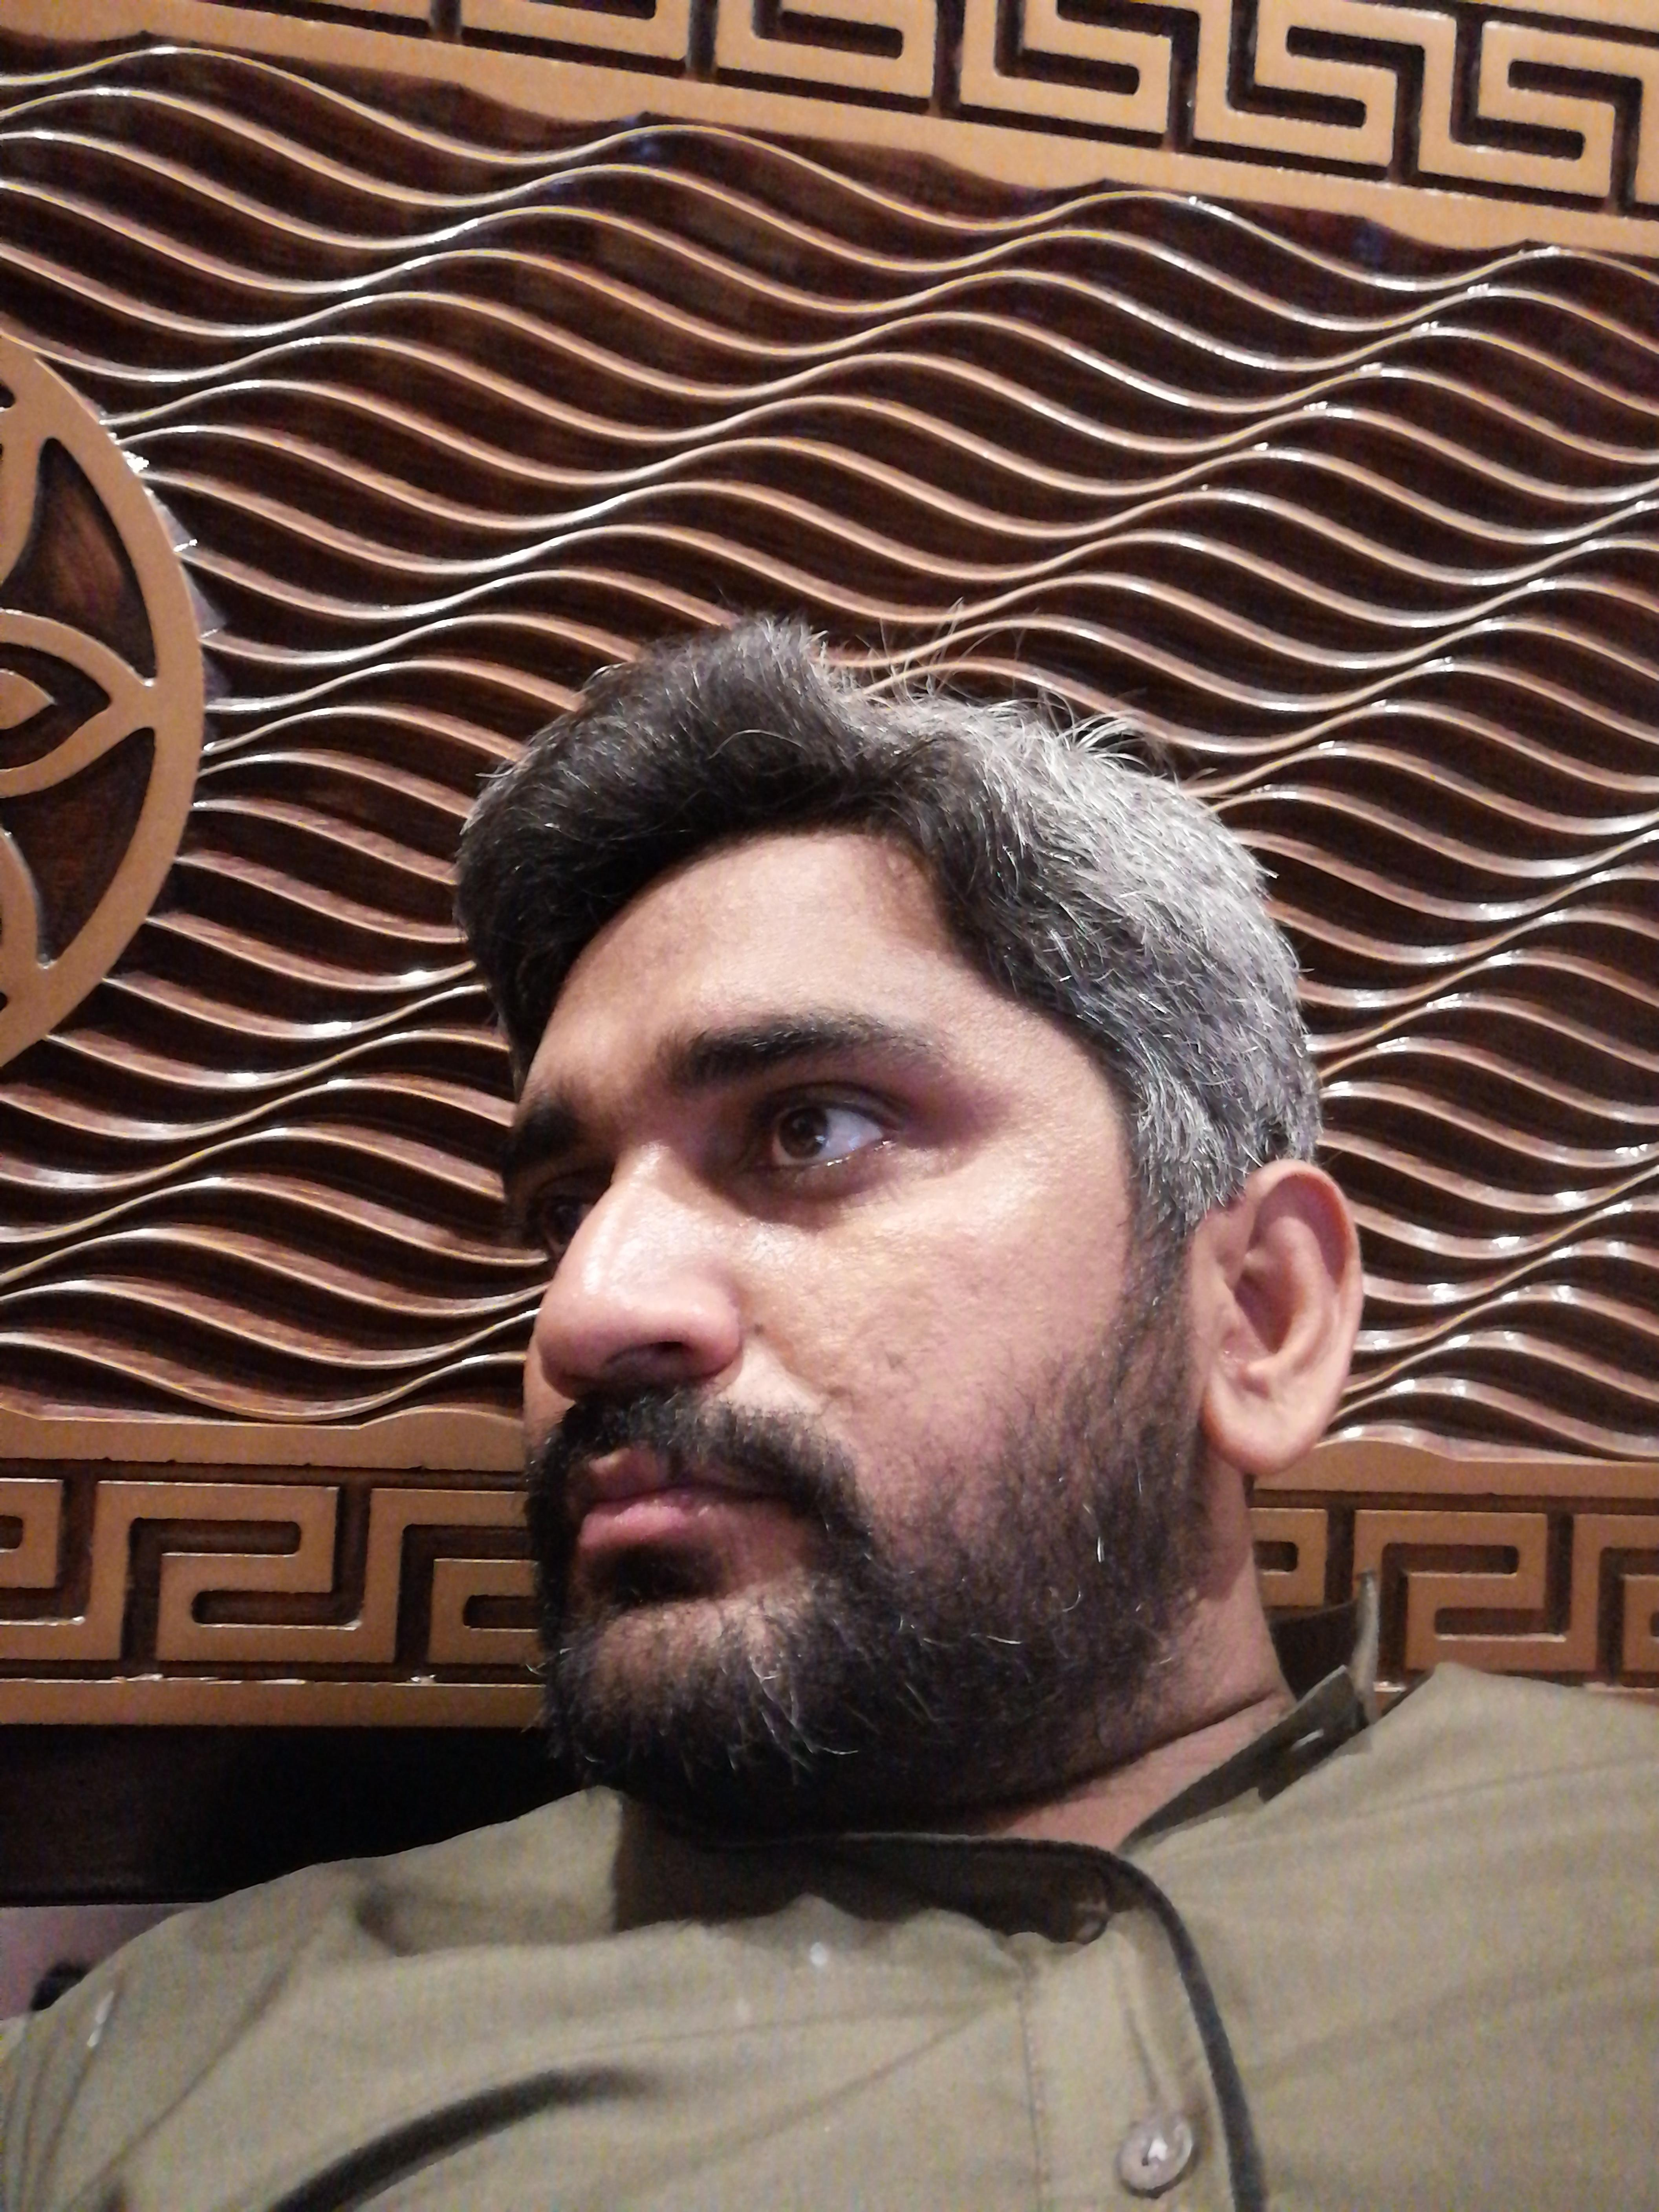Acne: (819, 1371, 856, 1402), (878, 1338, 911, 1364)
Eyebags: (713, 1134, 939, 1233)
